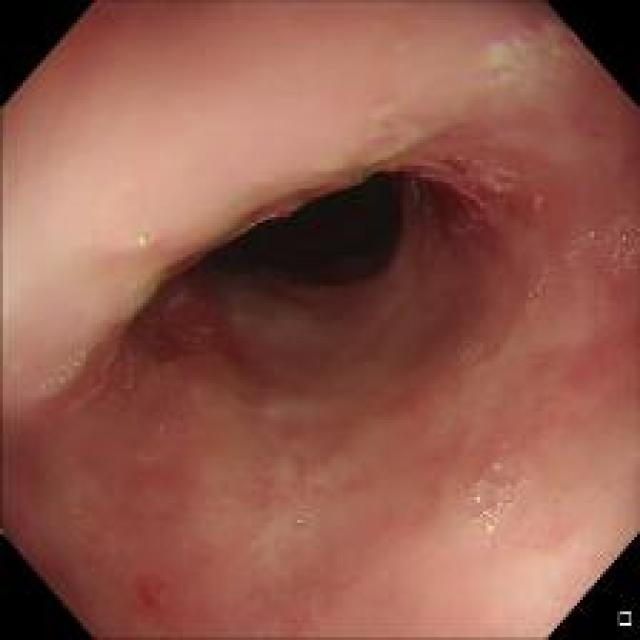bubbles: (466, 446, 530, 535), (582, 210, 636, 275), (68, 366, 138, 402), (38, 348, 88, 394), (286, 511, 319, 541), (460, 336, 485, 358), (525, 285, 548, 308), (538, 264, 556, 289), (71, 509, 89, 530), (74, 530, 84, 544)
color misalignment: (478, 15, 586, 89), (326, 100, 419, 174), (131, 230, 156, 254)
contrast: (171, 159, 424, 311)
specularity: (490, 461, 502, 472), (484, 522, 496, 532), (502, 480, 511, 492), (481, 509, 494, 515), (472, 495, 480, 501)
